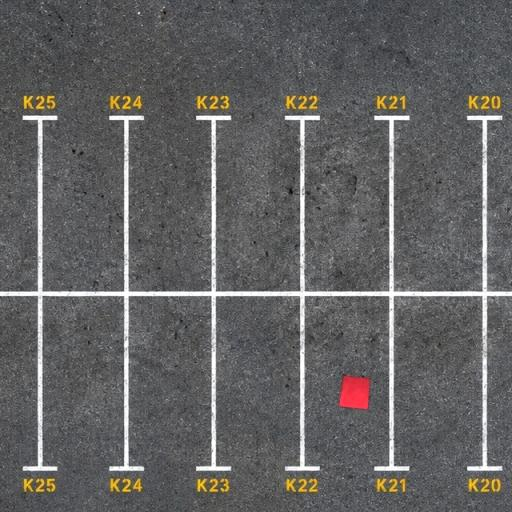RED_SQUARE: (338, 376, 371, 410)
